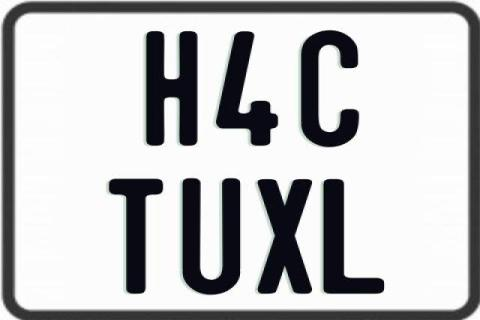0: (216, 29, 284, 148)
C: (299, 28, 360, 145)
H: (146, 30, 200, 150)
L: (323, 180, 387, 296)
T: (107, 178, 163, 298)
U: (180, 176, 244, 296)
X: (255, 178, 313, 296)
